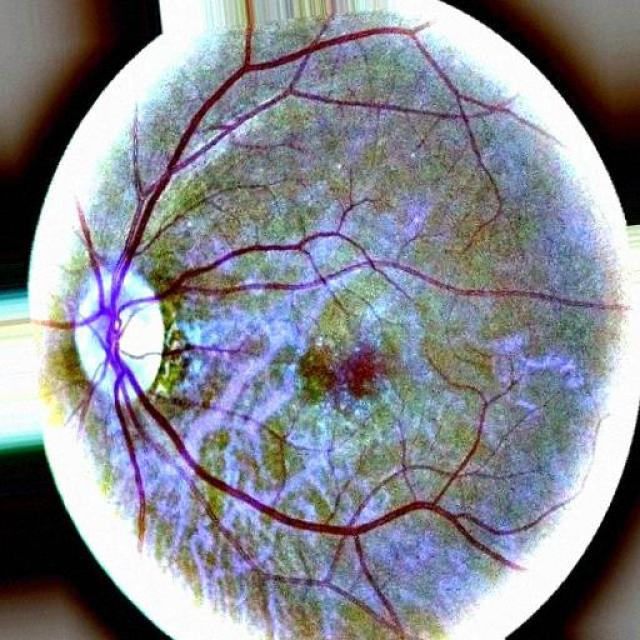Macula: (326, 350, 378, 401)
Nerves: (44, 26, 524, 629), (39, 370, 106, 437)
Optic Disk: (74, 266, 164, 397)
